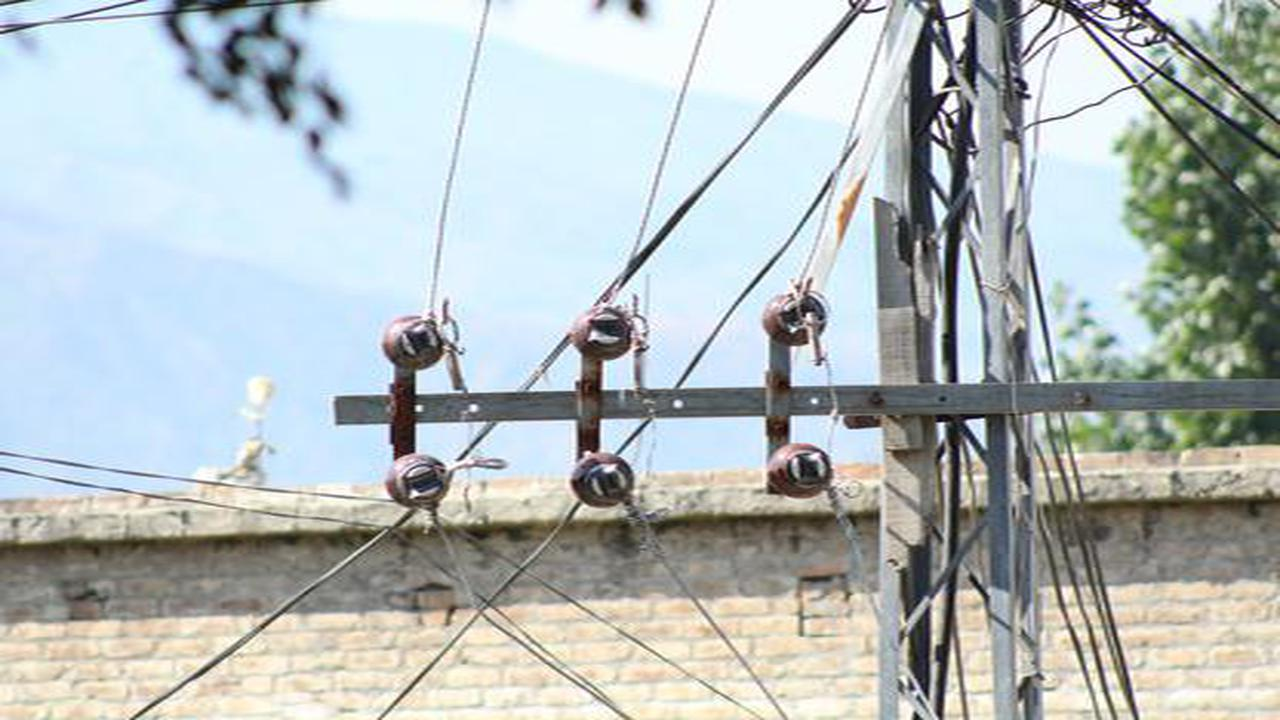insulator_pin: (761, 433, 835, 505), (565, 448, 638, 515), (378, 310, 450, 373), (382, 451, 457, 511), (564, 304, 638, 360), (761, 286, 831, 345)
